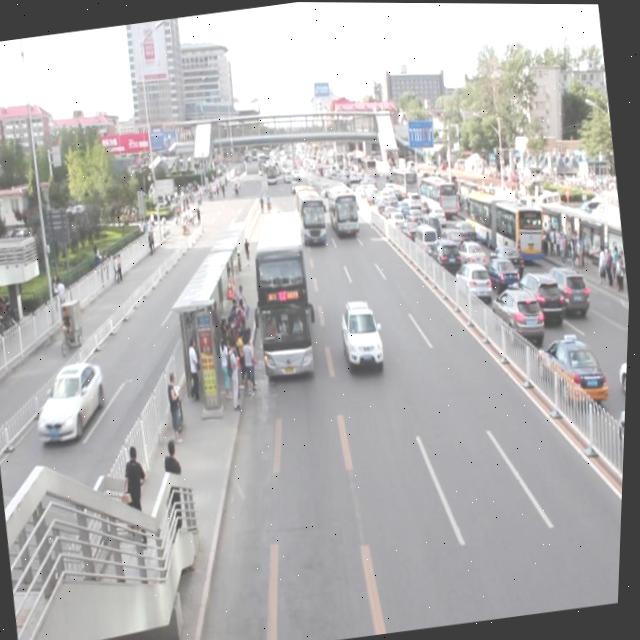car: (338, 294, 389, 377)
van: (247, 207, 322, 379), (292, 183, 330, 246), (324, 179, 362, 238)
